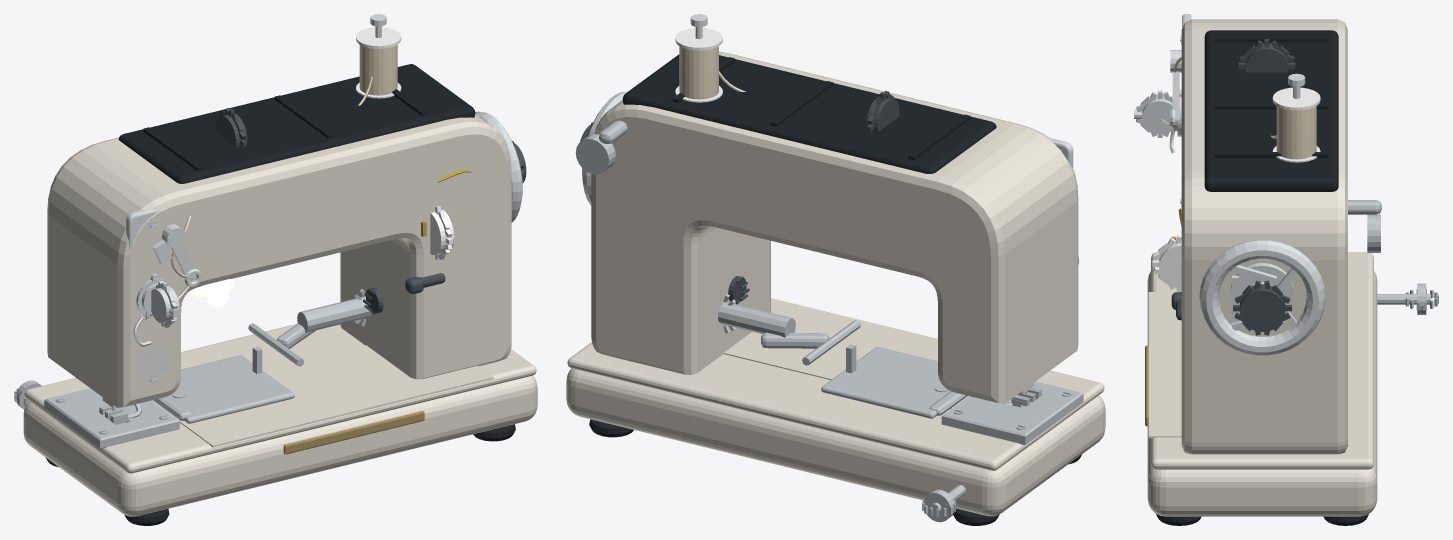
Rendered from sewing_machine.glb.
3 renders of one model, left to right at view 1: azimuth 30°, elevation 25°; view 2: azimuth 150°, elevation 25°; view 3: azimuth 270°, elevation 25°, orthographic. The views are drawn at different scales.
Parts seen in each view (by area): view 1: body_shell, bed, top_cover, slide_plate, needle_plate, feed_regulator, spool, tension_unit, faceplate, take_up_lever, stitch_length_dial, handwheel (+3 smaller); view 2: body_shell, bed, top_cover, slide_plate, needle_plate, feed_regulator, spool, bobbin_winder, rubber_feet, hook_shaft, pressure_dial, handwheel; view 3: body_shell, bed, top_cover, handwheel, spool, stop_motion_knob, tension_unit, pressure_dial, stitch_length_dial, bobbin_winder, hook_shaft, rubber_feet (+1 smaller).
Boxes of the visible parts, box(x1,y1,x2,y2) form: body_shell: box(47, 114, 511, 407); bed: box(23, 323, 537, 516); top_cover: box(118, 64, 475, 183); slide_plate: box(153, 355, 294, 423); needle_plate: box(44, 388, 179, 448); feed_regulator: box(248, 289, 371, 373); spool: box(356, 27, 401, 98); tension_unit: box(133, 273, 180, 346); faceplate: box(126, 209, 169, 384); take_up_lever: box(152, 224, 201, 286); stitch_length_dial: box(421, 205, 454, 260); handwheel: box(475, 111, 522, 222); body_shell: box(591, 51, 1078, 403); bed: box(566, 298, 1105, 516); top_cover: box(622, 54, 996, 173); slide_plate: box(821, 347, 967, 418); needle_plate: box(941, 381, 1083, 445); feed_regulator: box(718, 294, 860, 373); spool: box(675, 28, 722, 102); bobbin_winder: box(575, 120, 627, 174); rubber_feet: box(589, 419, 1081, 525); hook_shaft: box(922, 485, 965, 522); pressure_dial: box(866, 90, 899, 132); handwheel: box(582, 91, 627, 205); body_shell: box(1181, 19, 1347, 454); bed: box(1145, 252, 1377, 516); top_cover: box(1204, 30, 1338, 191); handwheel: box(1199, 240, 1325, 355); spool: box(1272, 87, 1320, 162); stop_motion_knob: box(1233, 280, 1291, 335); tension_unit: box(1134, 89, 1181, 153); pressure_dial: box(1238, 39, 1295, 72); stitch_length_dial: box(1152, 235, 1181, 292); bobbin_winder: box(1348, 200, 1381, 252); hook_shaft: box(1377, 283, 1438, 314); rubber_feet: box(1156, 514, 1368, 525).
Bounding box in the file's own units: 0.474 × 0.397 × 0.2681.
